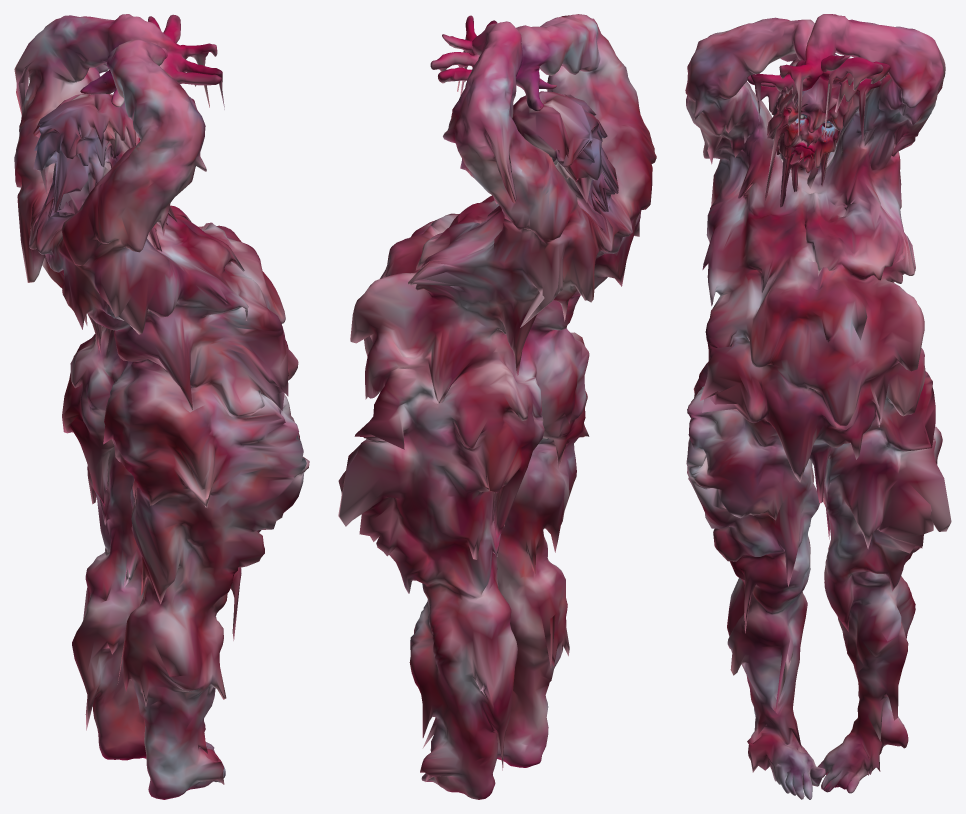
File: Fluid_v02.glb
The picture shows the model from 3 angles, left to right: view 1: azimuth 30°, elevation 25°; view 2: azimuth 150°, elevation 25°; view 3: azimuth 270°, elevation 25°; orthographic projection. The views are drawn at different scales.
Parts seen in each view (by area): view 1: Oysterheadpainted1_1; view 2: Oysterheadpainted1_1; view 3: Oysterheadpainted1_1.
Part boxes in pixels (x1,y1,x2,y2): Oysterheadpainted1_1: (14, 14, 309, 799); Oysterheadpainted1_1: (338, 14, 656, 799); Oysterheadpainted1_1: (685, 14, 951, 799).
Bounding box in the file's own units: 4.58 × 13.61 × 4.39.
